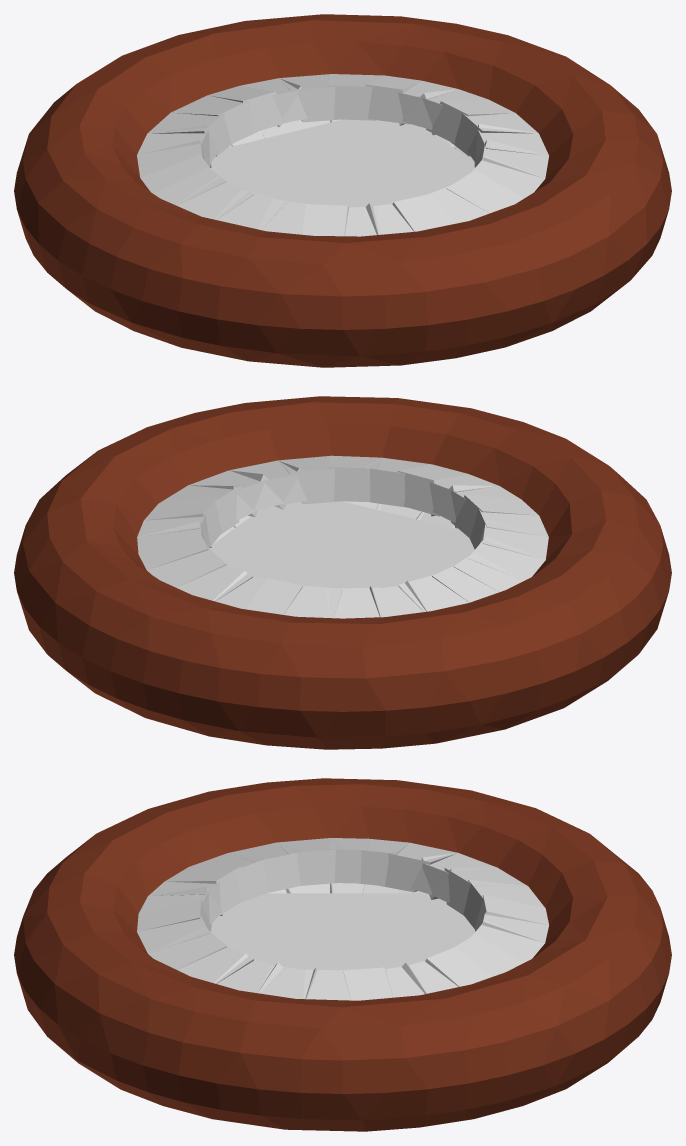
Rendered from jap03.fbx.
3 views of the same model, one above another, from view 1: azimuth 30°, elevation 25°; view 2: azimuth 150°, elevation 25°; view 3: azimuth 270°, elevation 25° (orthographic).
Visible parts, largest first — view 1: Torus, Plane; view 2: Torus, Plane; view 3: Torus, Plane.
Part boxes in pixels (left/top/right/bottom): Torus: left=14, top=14, right=671, bottom=367; Plane: left=210, top=119, right=474, bottom=207; Torus: left=14, top=396, right=671, bottom=749; Plane: left=210, top=501, right=474, bottom=588; Torus: left=14, top=778, right=671, bottom=1131; Plane: left=210, top=893, right=475, bottom=970.
Size of the model in its own units: 449 by 89.94 by 449.
